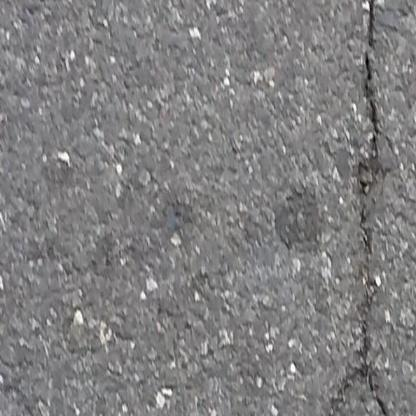Cracks: (324, 265, 409, 416), (356, 0, 382, 260)
